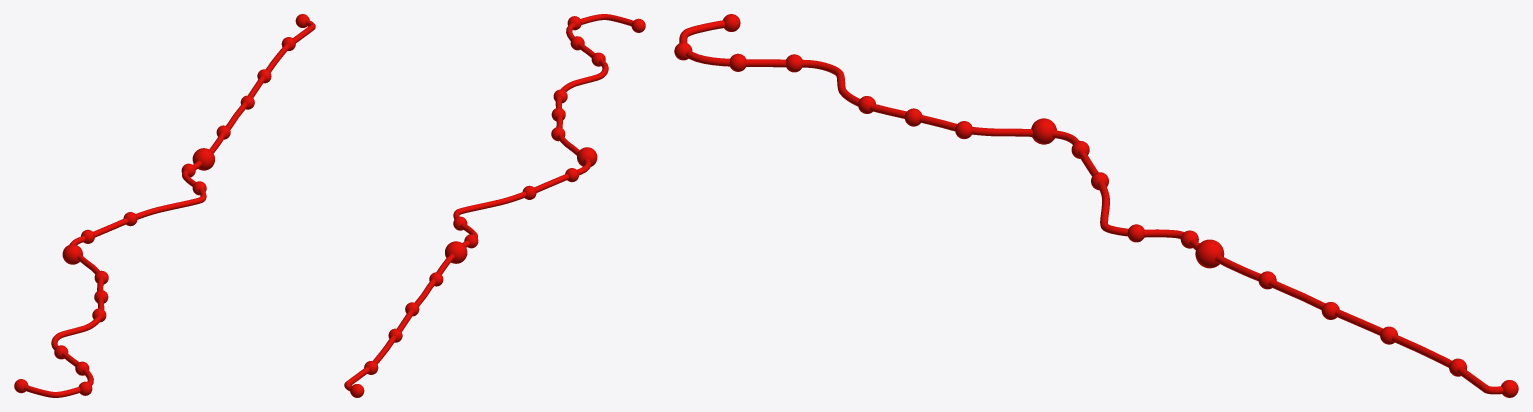
Rendered from Board.gltf.
3 views of the same model, side by side, from view 1: azimuth 30°, elevation 25°; view 2: azimuth 210°, elevation 25°; view 3: azimuth 270°, elevation 25° (orthographic). The views are drawn at different scales.
Visible parts, largest first — view 1: BezierCurve; view 2: BezierCurve; view 3: BezierCurve.
Boxes of the visible parts, left/top/right/bottom form: BezierCurve: left=14, top=14, right=315, bottom=397; BezierCurve: left=344, top=14, right=645, bottom=397; BezierCurve: left=674, top=14, right=1518, bottom=397.
Size of the model in its own units: 4.43 by 0.1449 by 4.23.
